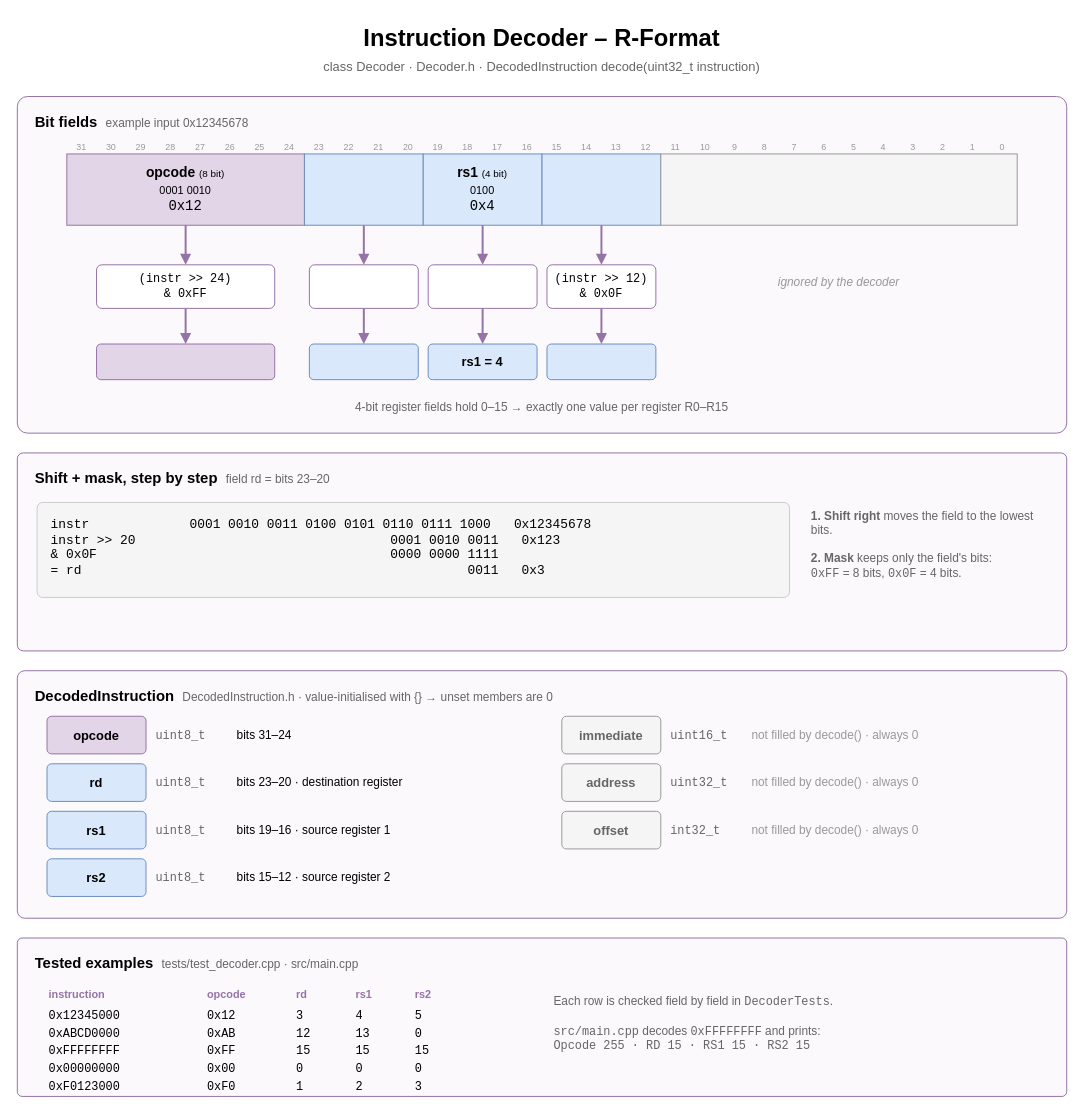
Some shapes in this 1084 by 1114 pixel diagram are drawn without their labels. Here are the shapes that lost their labels. From the top down, the centre of each, then its label:
At point 363,189: "rd (4 bit) 0011 0x3".
At point 601,189: "rs2 (4 bit) 0101 0x5".
At point 838,189: "unused (12 bit) 0110 0111 1000 0x678".
At point 363,286: "(instr >> 20) & 0x0F".
At point 482,286: "(instr >> 16) & 0x0F".
At point 185,361: "opcode = 0x12".
At point 363,361: "rd = 3".
At point 601,361: "rs2 = 5".
